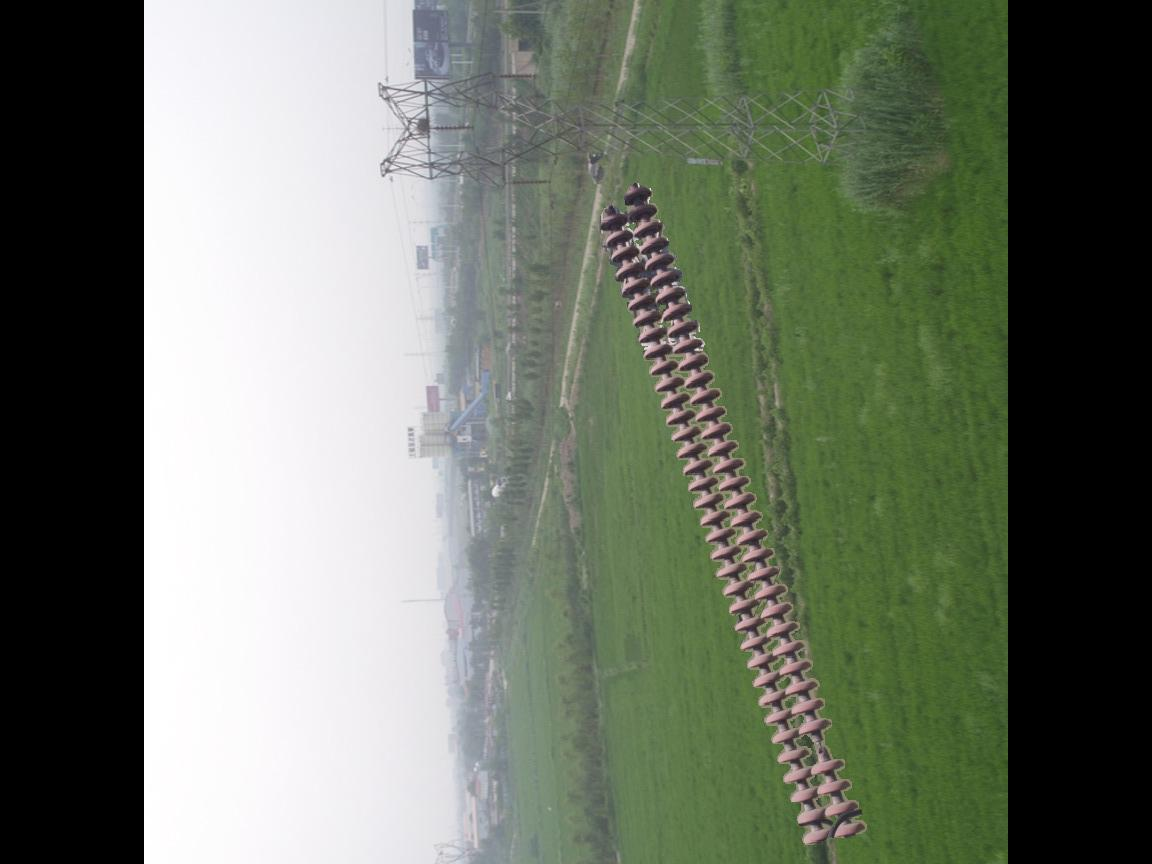insulator: (593, 178, 872, 849)
insulator_stringdrop: (795, 714, 850, 780)
